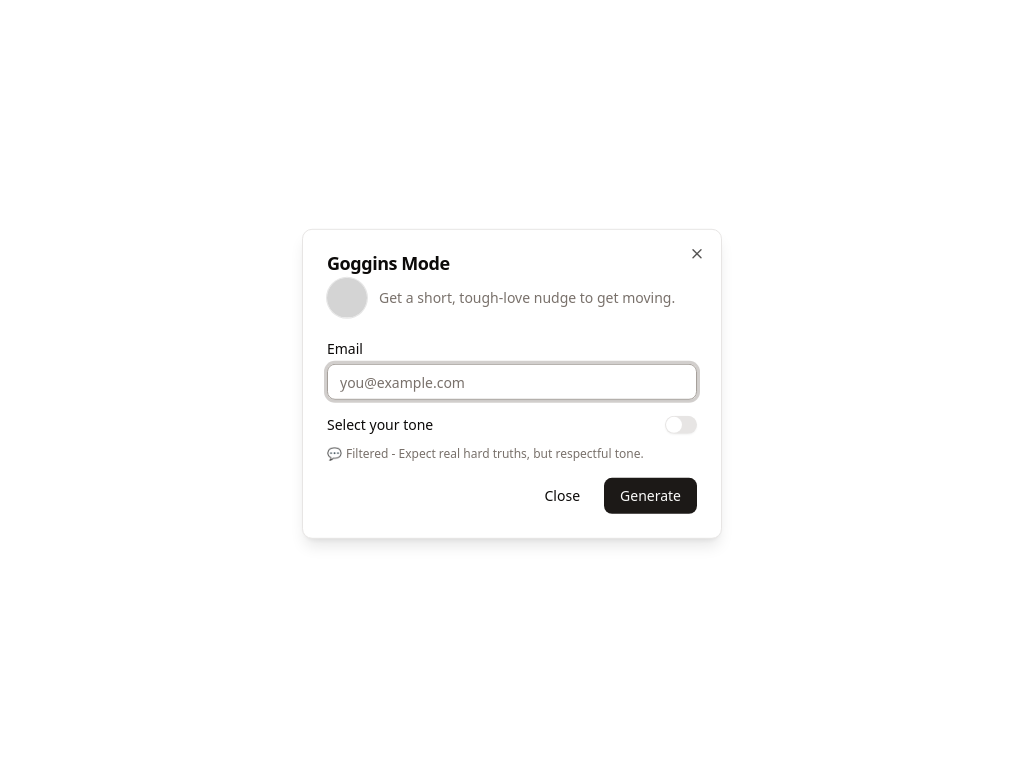
GogginsDialog - rate limit paths › last scream used: shows the result, 0/limit and a countdown from resetTime, with no error
The width and height of the screenshot is (1024, 768).
Type "rl@test.com" into the field labelled "Email" at (512, 382), box [327,364,697,400]
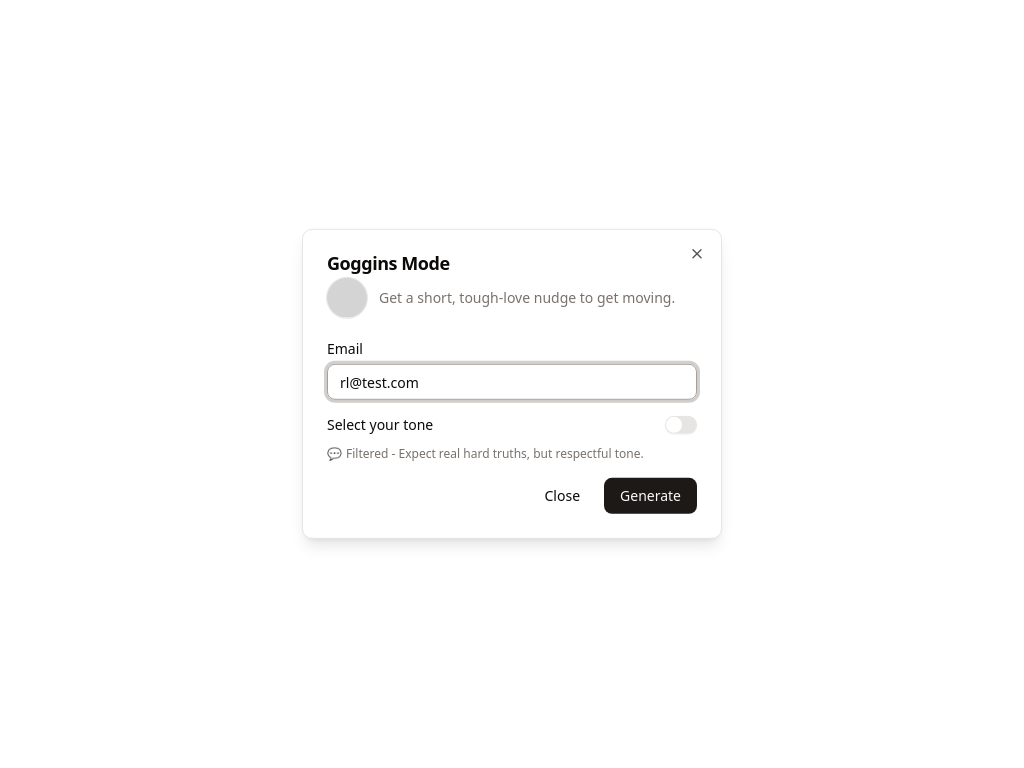
Click the button "Generate" at (650, 496), box [604,478,697,514]
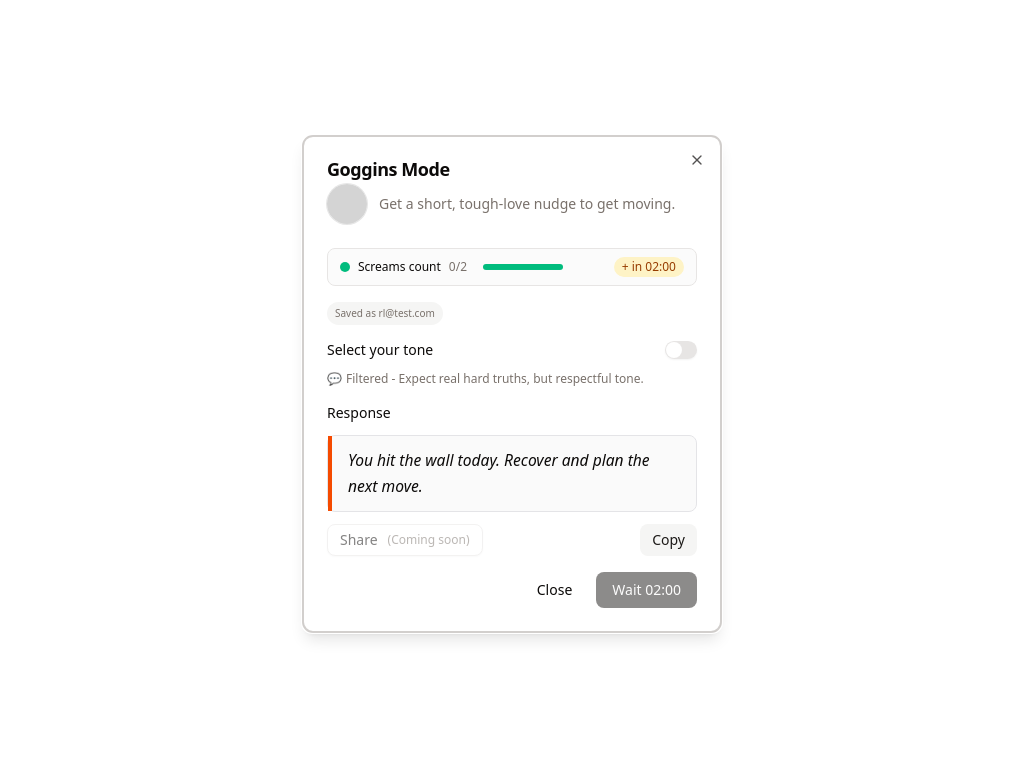
Expected: the text "You hit the wall today. Recover and plan the next move." is shown, [348,448,680,499]
Expected: the text "0/2" is shown, [449,259,467,275]
Expected: the text "+ in 02:00" is shown, [614,257,684,277]
